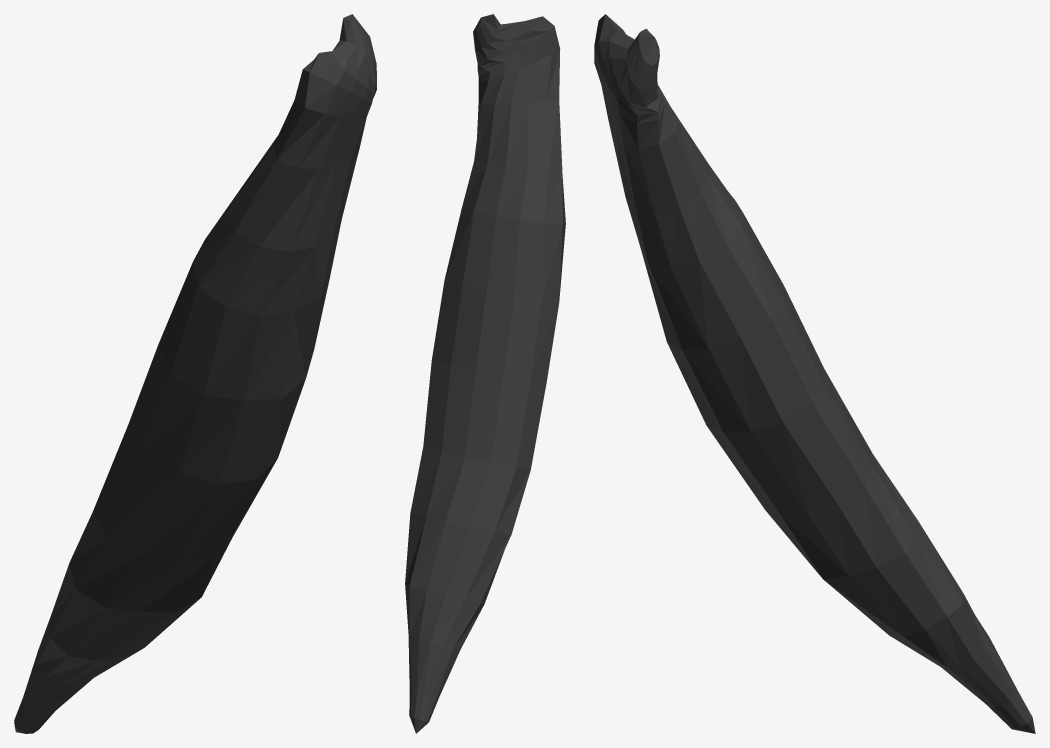
File: TibialisCranialis.glb
3 views of the same model, side by side, from view 1: azimuth 30°, elevation 25°; view 2: azimuth 150°, elevation 25°; view 3: azimuth 270°, elevation 25° (orthographic). The views are drawn at different scales.
Parts seen in each view (by area): view 1: TibialisCranialis; view 2: TibialisCranialis; view 3: TibialisCranialis.
Boxes of the visible parts, bbox=[...] form: TibialisCranialis: bbox=[14, 14, 376, 733]; TibialisCranialis: bbox=[405, 14, 565, 733]; TibialisCranialis: bbox=[594, 14, 1035, 733].
Bounding box in the file's own units: 0.9881 × 4.58 × 2.43.
Materials: 1 (1 with a texture image).
